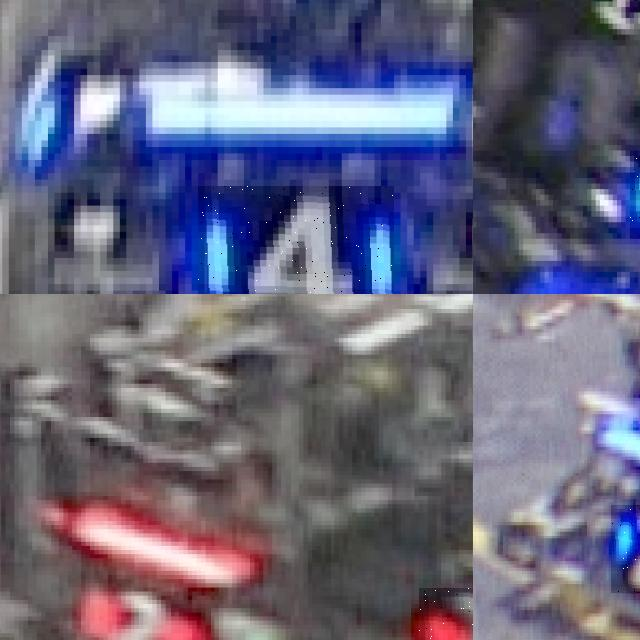B2: (611, 505, 640, 593)
B4: (198, 186, 394, 294)
R2: (76, 583, 196, 640), (418, 587, 473, 640)
